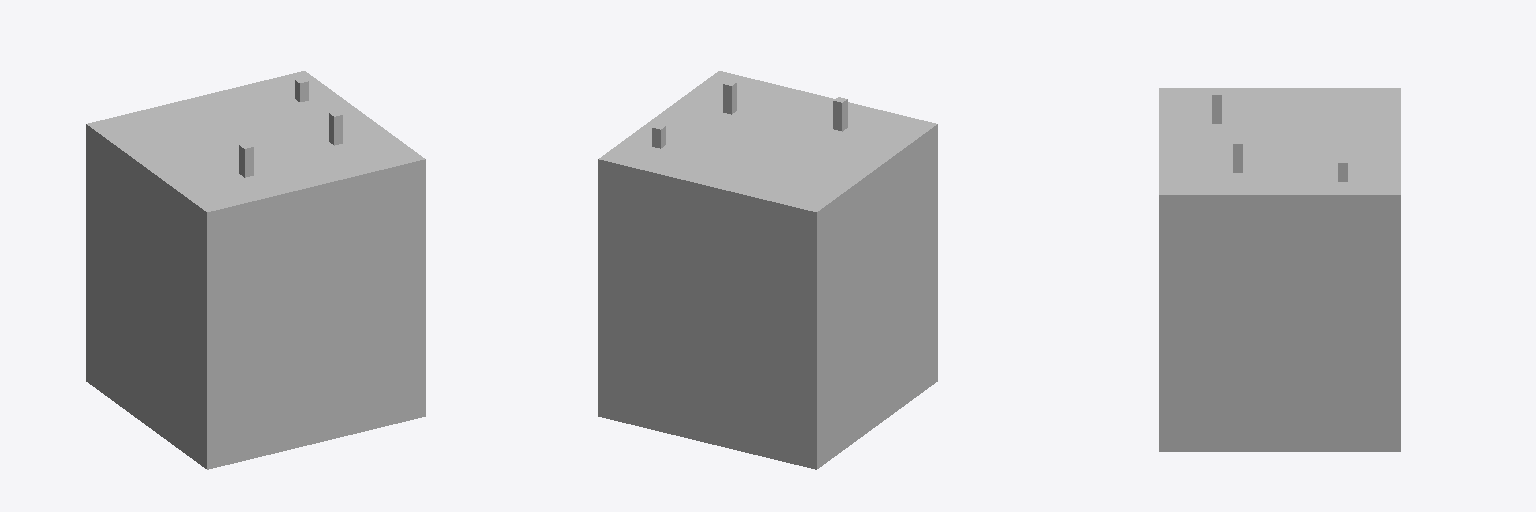
File: tapak2 ijo dgn rumput.obj
The picture shows the model from 3 angles: view 1: azimuth 30°, elevation 25°; view 2: azimuth 150°, elevation 25°; view 3: azimuth 270°, elevation 25°; orthographic projection.
Size of the model in its own units: 24 by 30 by 23.